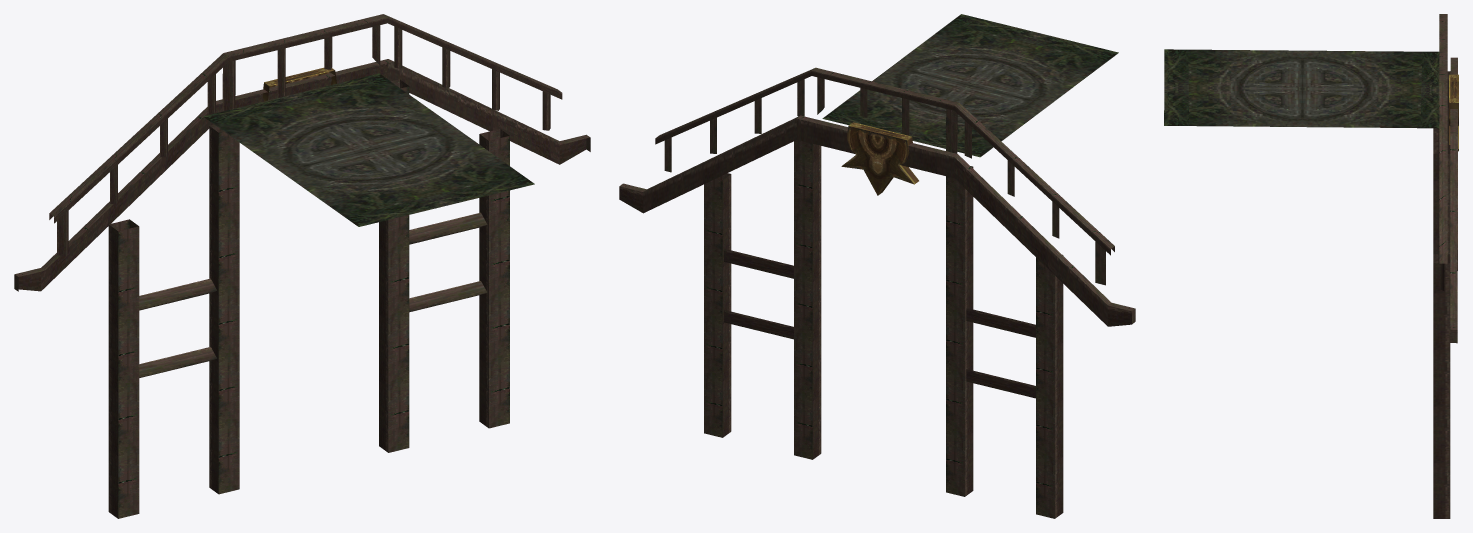
File: yinqiao.FBX
The picture shows the model from 3 angles, left to right: view 1: azimuth 30°, elevation 25°; view 2: azimuth 150°, elevation 25°; view 3: azimuth 270°, elevation 25°; orthographic projection. The views are drawn at different scales.
Visible parts, largest first — view 1: yinqiao; view 2: yinqiao; view 3: yinqiao.
Part boxes in pixels (x1,y1,x2,y2): yinqiao: (14,14,590,518); yinqiao: (619,14,1135,518); yinqiao: (1164,14,1458,518).
Bounding box in the file's own units: 1125 × 813 × 565.
